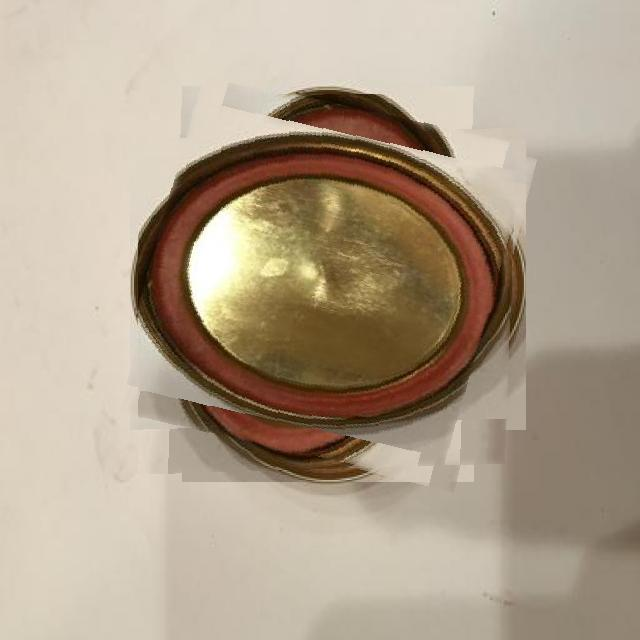recyclable: (138, 94, 519, 475)
